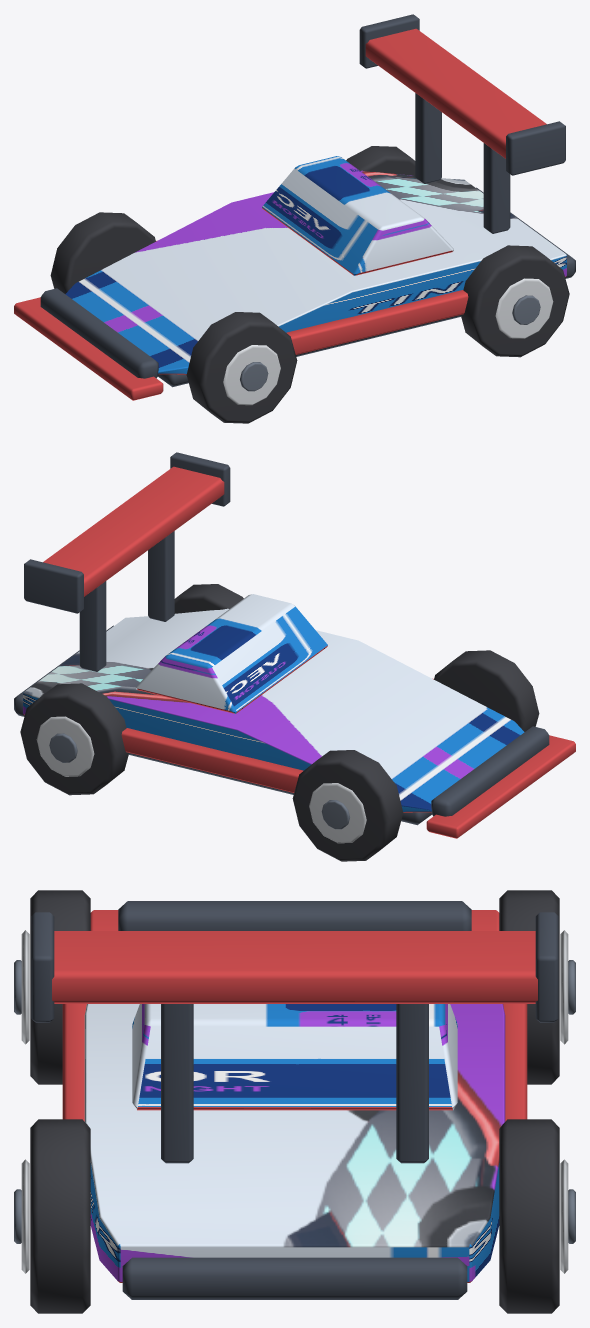
The picture shows the model from 3 angles, top to bottom: view 1: azimuth 30°, elevation 25°; view 2: azimuth 150°, elevation 25°; view 3: azimuth 270°, elevation 25°; orthographic projection. The views are drawn at different scales.
Visible parts, largest first — view 1: FF-05_connected_shell, FF-05_cabin, rear airfoil, Tire, Tire.002, Tire.001, custom side guard, custom chin, front bumper, wing endplate, wing support, wing support.001 (+7 smaller); view 2: FF-05_connected_shell, FF-05_cabin, rear airfoil, Tire.001, Tire.003, Tire, custom side guard.001, custom chin, front bumper, wing endplate.001, wing support.001, wing support (+7 smaller); view 3: FF-05_connected_shell, rear airfoil, FF-05_cabin, rear bumper, Tire.002, Tire.003, front bumper, wing support, wing support.001, Tire, Tire.001, custom side guard (+8 smaller).
Boxes of the visible parts, <box> form: FF-05_connected_shell: <box>65,170,566,374</box>; FF-05_cabin: <box>262,156,453,275</box>; rear airfoil: <box>365,28,546,158</box>; Tire: <box>186,312,297,423</box>; Tire.002: <box>461,245,569,357</box>; Tire.001: <box>50,212,155,293</box>; custom side guard: <box>286,290,468,354</box>; custom chin: <box>14,297,163,400</box>; front bumper: <box>40,288,158,378</box>; wing endplate: <box>506,121,565,175</box>; wing support: <box>483,143,510,233</box>; wing support.001: <box>415,93,441,183</box>; FF-05_connected_shell: <box>23,608,524,812</box>; FF-05_cabin: <box>136,594,327,713</box>; rear airfoil: <box>43,466,224,596</box>; Tire.001: <box>292,750,403,861</box>; Tire.003: <box>20,683,128,795</box>; Tire: <box>434,650,539,731</box>; custom side guard.001: <box>121,728,303,792</box>; custom chin: <box>426,735,575,838</box>; front bumper: <box>431,726,549,816</box>; wing endplate.001: <box>24,559,83,613</box>; wing support.001: <box>79,581,106,671</box>; wing support: <box>148,531,174,621</box>; FF-05_connected_shell: <box>84,1004,505,1282</box>; rear airfoil: <box>52,931,537,1003</box>; FF-05_cabin: <box>132,1004,457,1110</box>; rear bumper: <box>122,1257,467,1299</box>; Tire.002: <box>30,1119,90,1313</box>; Tire.003: <box>499,1119,559,1313</box>; front bumper: <box>118,901,471,930</box>; wing support: <box>161,1004,193,1163</box>; wing support.001: <box>396,1004,428,1163</box>; Tire: <box>30,890,90,1084</box>; Tire.001: <box>499,890,559,1084</box>; custom side guard: <box>62,1004,86,1121</box>.
Size of the model in its own units: 391 by 183 by 242.
